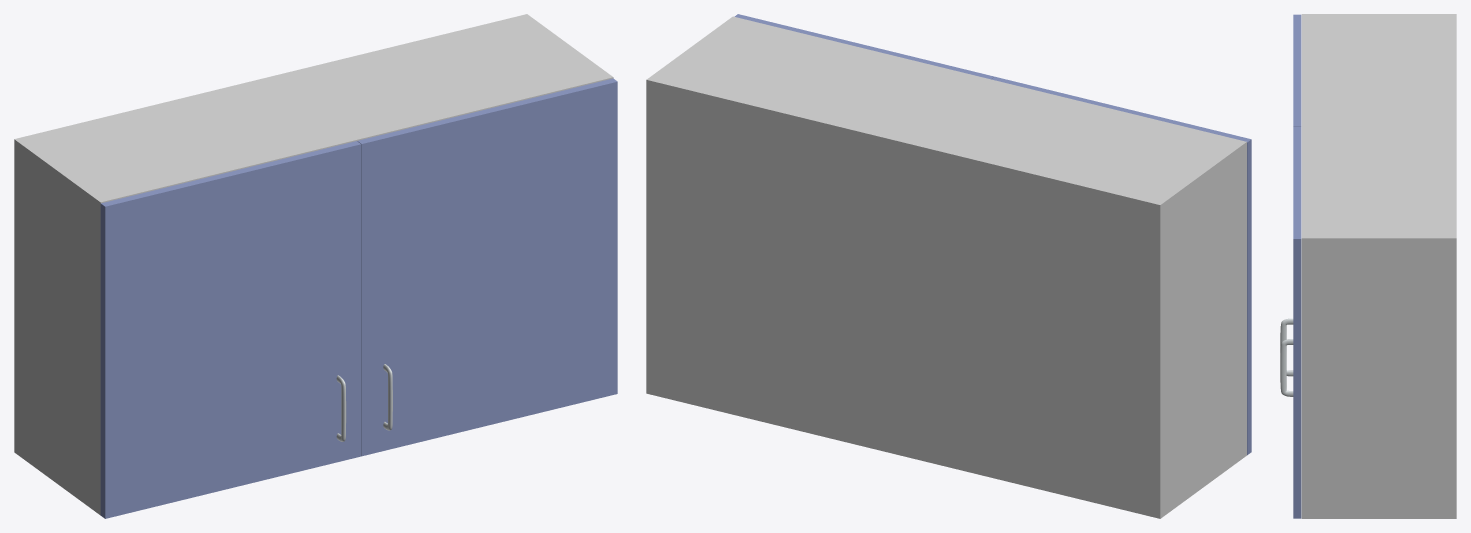
The model's file is Cupboard.fbx.
3 renders of one model, left to right at view 1: azimuth 30°, elevation 25°; view 2: azimuth 150°, elevation 25°; view 3: azimuth 270°, elevation 25°, orthographic. The views are drawn at different scales.
Visible parts, largest first — view 1: Cabinet1_Door, Cabinet2_Door, Cabinet1, Cabinet2; view 2: Cabinet1, Cabinet2, Cabinet1_Door, Cabinet2_Door; view 3: Cabinet2, Cabinet1, Cabinet2_Door, Cabinet1_Door, Handle.001, Handle.
Boxes of the visible parts, x1=… form: Cabinet1_Door: x1=100, y1=141, x2=361, y2=518; Cabinet2_Door: x1=357, y1=78, x2=617, y2=456; Cabinet1: x1=14, y1=76, x2=356, y2=515; Cabinet2: x1=271, y1=14, x2=613, y2=140; Cabinet1: x1=903, y1=79, x2=1246, y2=518; Cabinet2: x1=646, y1=16, x2=989, y2=455; Cabinet1_Door: x1=991, y1=76, x2=1251, y2=455; Cabinet2_Door: x1=734, y1=14, x2=994, y2=79; Cabinet2: x1=1301, y1=126, x2=1456, y2=518; Cabinet1: x1=1301, y1=14, x2=1456, y2=126; Cabinet2_Door: x1=1293, y1=127, x2=1301, y2=518; Cabinet1_Door: x1=1293, y1=14, x2=1301, y2=126; Handle.001: x1=1280, y1=339, x2=1293, y2=396; Handle: x1=1280, y1=318, x2=1293, y2=376.
Size of the model in its own units: 120 by 70 by 39.86.
